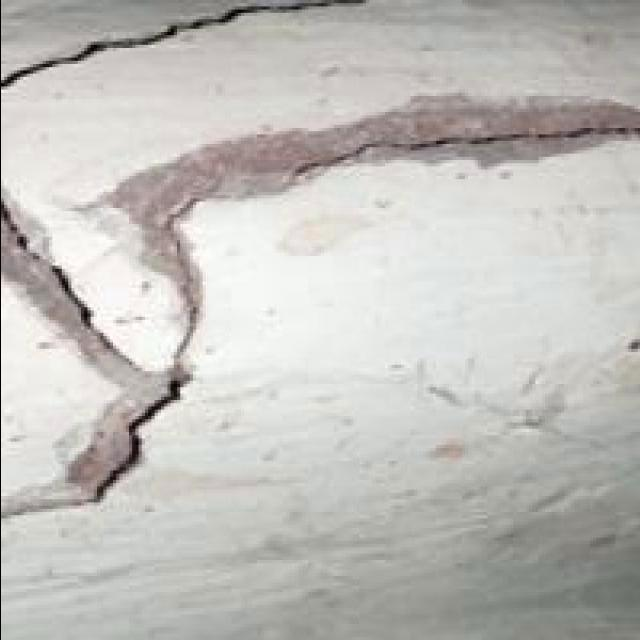SurfaceCrack: (0, 172, 216, 550), (262, 80, 640, 210)
